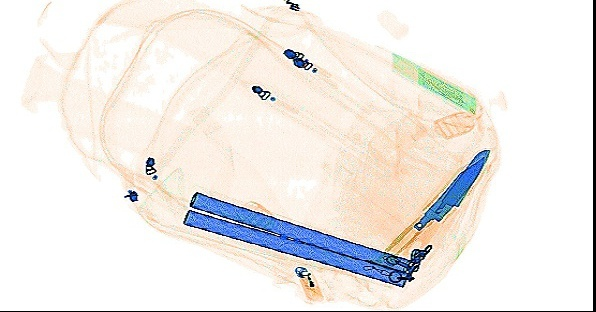knife: (377, 148, 493, 262)
lighter: (291, 262, 323, 304)
